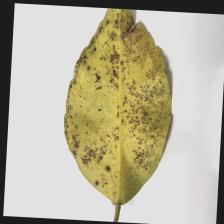canker: (78, 31, 162, 170)
